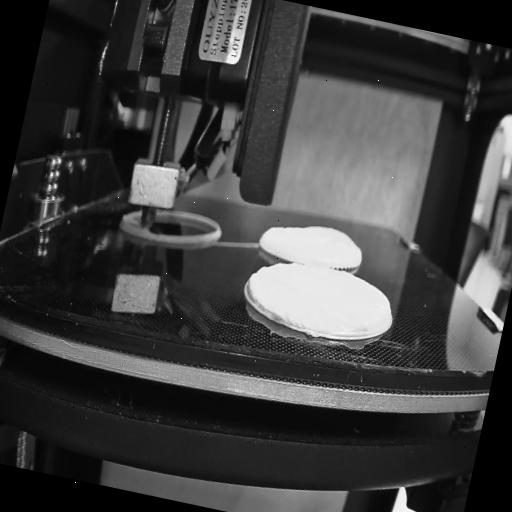over_extrusion: (242, 274, 264, 310), (120, 213, 138, 223)
